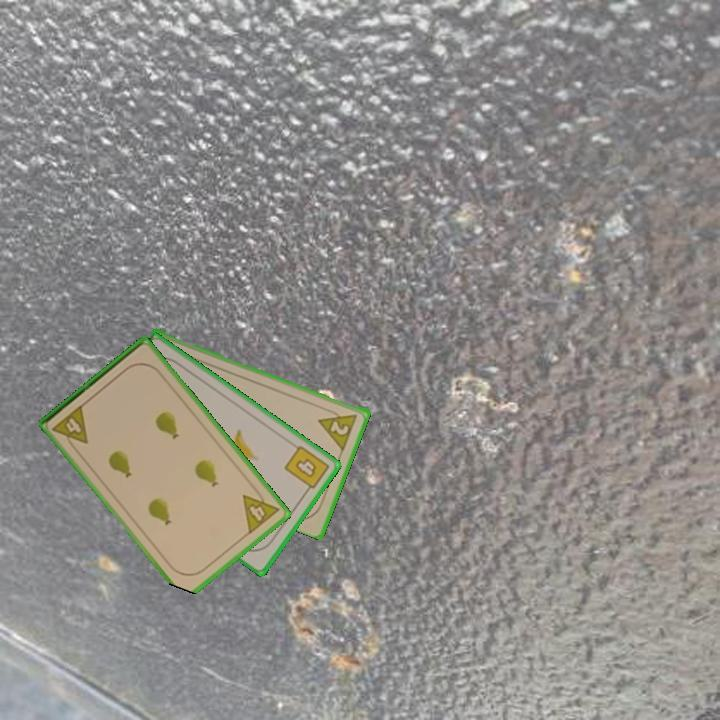2p: (315, 405, 361, 452)
4b: (281, 442, 332, 497)
4p: (239, 483, 282, 537), (49, 401, 91, 454)
